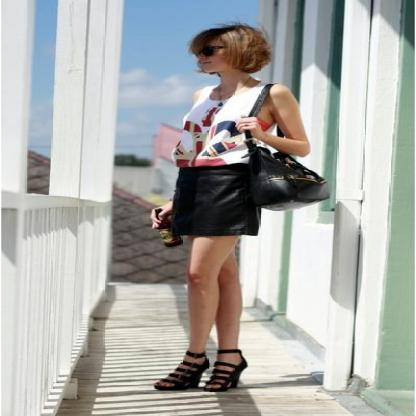bag: (240, 142, 324, 208)
shirt: (173, 85, 286, 171)
shoe: (154, 341, 246, 391)
skirt: (155, 163, 261, 237)
sunglass: (191, 28, 222, 57)
